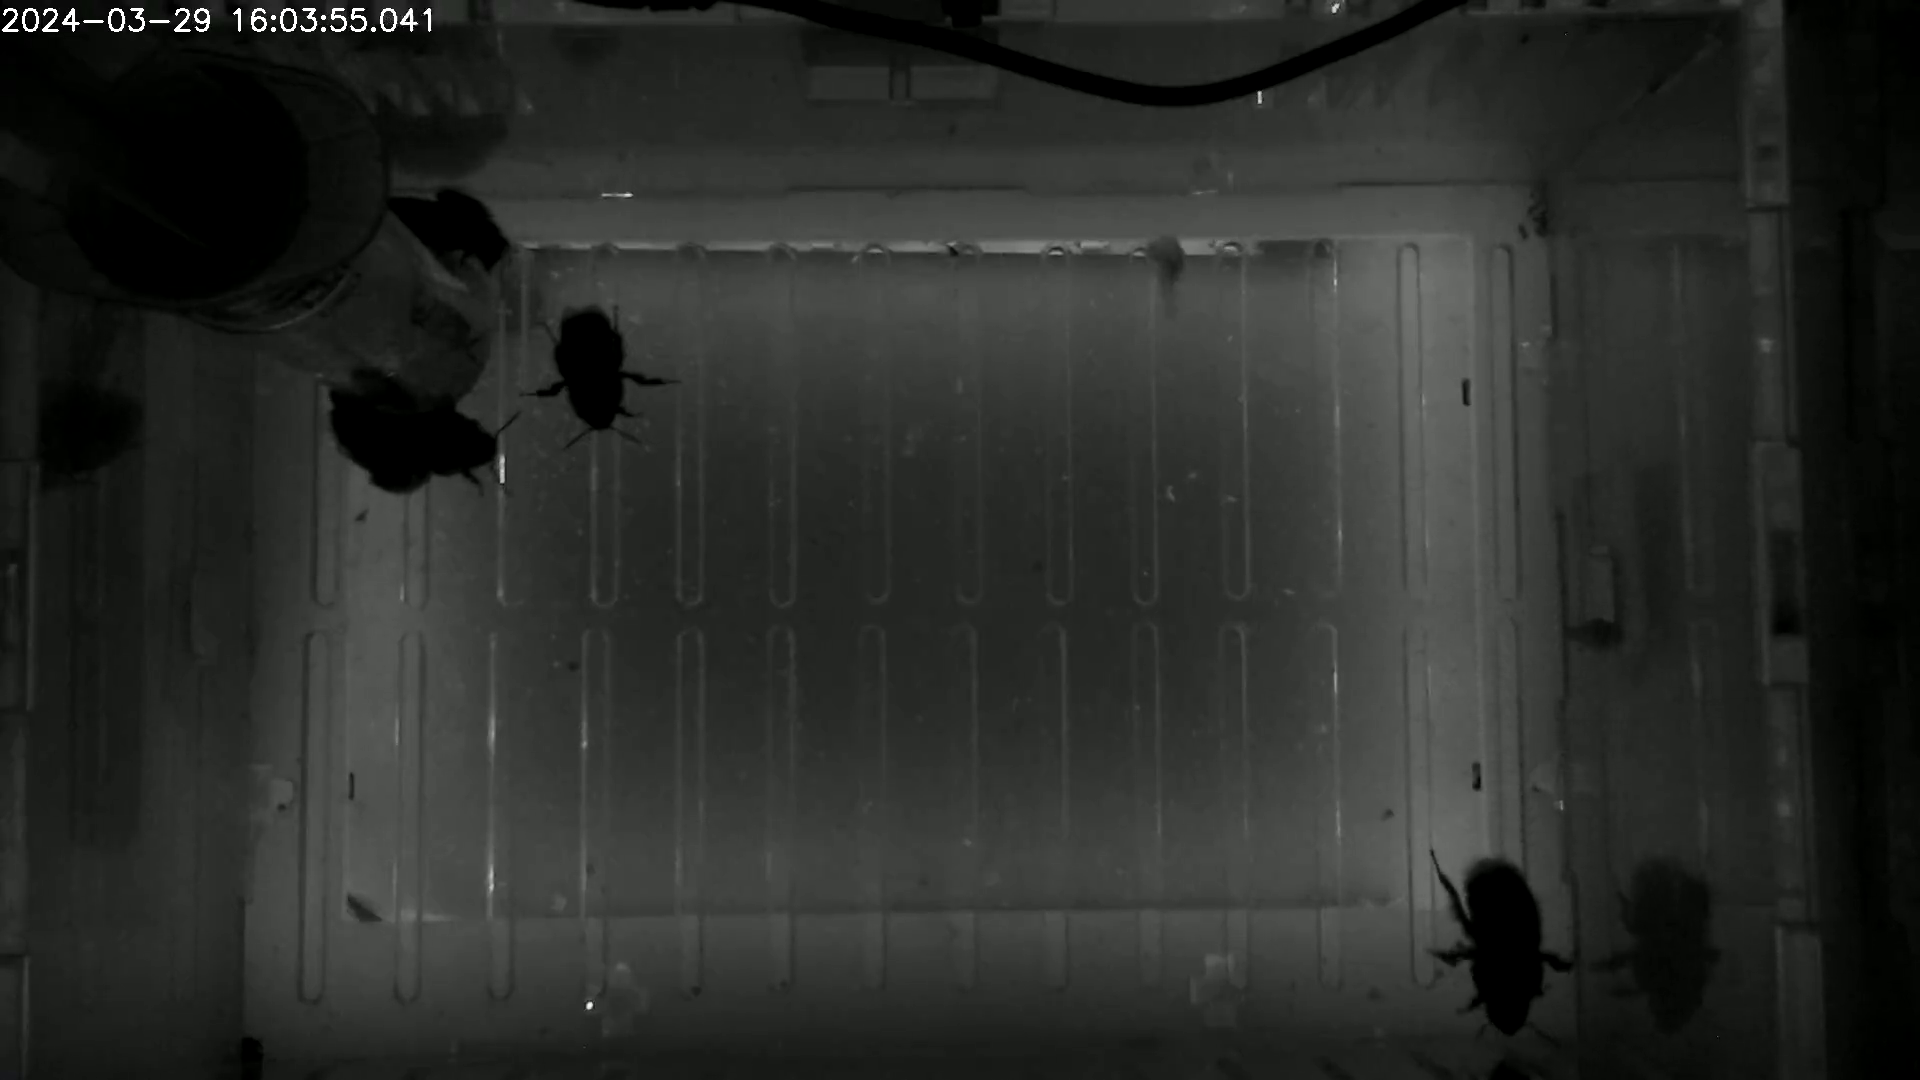bee: (1411, 835, 1592, 1056), (514, 299, 683, 452), (359, 364, 526, 514), (305, 355, 435, 500), (367, 169, 521, 281)
feeder: (252, 210, 500, 417)
